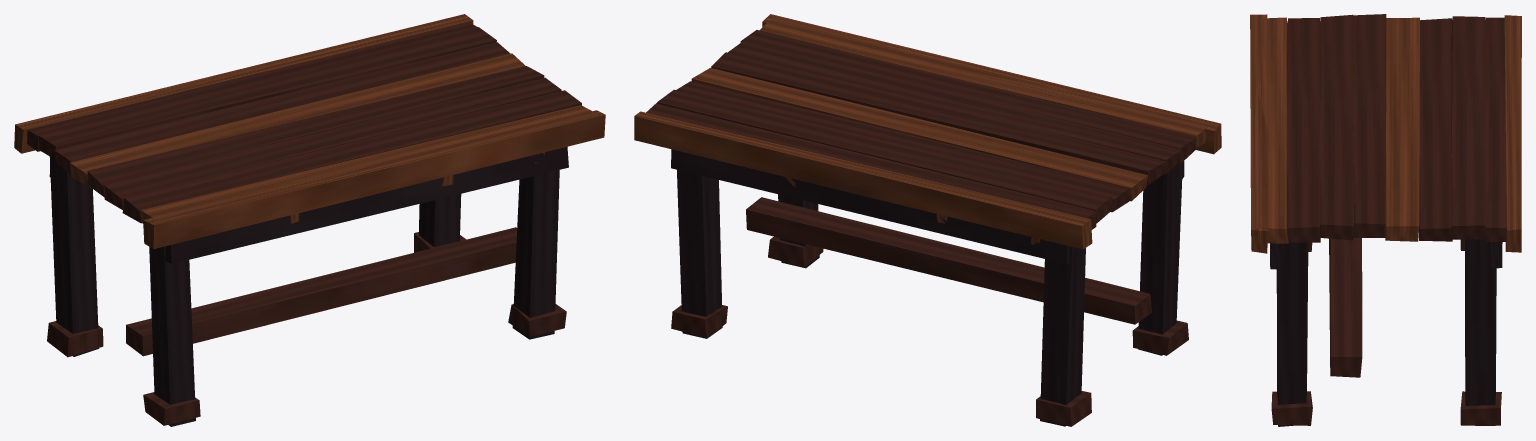
File: shadow-bench.glb
The picture shows the model from 3 angles, left to right: view 1: azimuth 30°, elevation 25°; view 2: azimuth 150°, elevation 25°; view 3: azimuth 270°, elevation 25°; orthographic projection. The views are drawn at different scales.
Parts seen in each view (by area): view 1: Carved worn front rim, Foot rest, Raised oak board.006, Raised oak board.002, Raised oak board.001, Apron, Raised oak board.003, Raised oak board.005, Raised oak board.004, Pegged, tapered support.001, Raised oak board, Pegged, tapered support (+7 smaller); view 2: Carved worn front rim.001, Foot rest, Raised oak board.003, Raised oak board.006, Raised oak board.004, Apron.001, Raised oak board.002, Raised oak board.001, Raised oak board, Pegged, tapered support.001, Raised oak board.005, Pegged, tapered support.003 (+7 smaller); view 3: Raised oak board.006, Raised oak board.004, Raised oak board.002, Raised oak board.001, Raised oak board.003, Raised oak board.005, Raised oak board, Pegged, tapered support.003, Pegged, tapered support.002, Raised oak board.007, Foot rest, Carved worn front rim.001 (+5 smaller).
Boxes of the visible parts, x1,y1,x2,y2 form: Carved worn front rim: [143, 110, 605, 249]; Foot rest: [126, 227, 517, 356]; Raised oak board.006: [38, 27, 496, 159]; Raised oak board.002: [103, 77, 561, 209]; Raised oak board.001: [122, 90, 581, 223]; Apron: [162, 146, 568, 263]; Raised oak board.003: [87, 66, 544, 197]; Raised oak board.005: [54, 42, 510, 174]; Raised oak board.004: [70, 53, 525, 187]; Pegged, tapered support.001: [49, 156, 99, 356]; Raised oak board: [141, 105, 598, 223]; Pegged, tapered support: [149, 246, 195, 426]; Carved worn front rim.001: [634, 111, 1092, 249]; Foot rest: [746, 197, 1151, 324]; Raised oak board.003: [711, 52, 1166, 185]; Raised oak board.006: [657, 89, 1113, 223]; Raised oak board.004: [691, 67, 1147, 201]; Apron.001: [671, 149, 1069, 264]; Raised oak board.002: [728, 41, 1181, 175]; Raised oak board.001: [740, 30, 1196, 164]; Raised oak board: [759, 17, 1208, 148]; Pegged, tapered support.001: [1040, 246, 1085, 426]; Raised oak board.005: [676, 81, 1129, 212]; Pegged, tapered support.003: [677, 170, 722, 338]; Raised oak board.006: [1451, 16, 1485, 239]; Raised oak board.004: [1385, 17, 1419, 241]; Raised oak board.002: [1320, 14, 1353, 240]; Raised oak board.001: [1287, 18, 1320, 242]; Raised oak board.003: [1353, 14, 1386, 237]; Raised oak board.005: [1419, 18, 1452, 241]; Raised oak board: [1255, 17, 1288, 243]; Pegged, tapered support.003: [1465, 236, 1496, 425]; Pegged, tapered support.002: [1276, 242, 1308, 426]; Raised oak board.007: [1484, 17, 1506, 241]; Foot rest: [1329, 238, 1362, 377]; Carved worn front rim.001: [1504, 15, 1521, 252].
Bounding box in the file's own units: 4.89 × 2.29 × 2.6.
3 materials, 3 textured.
